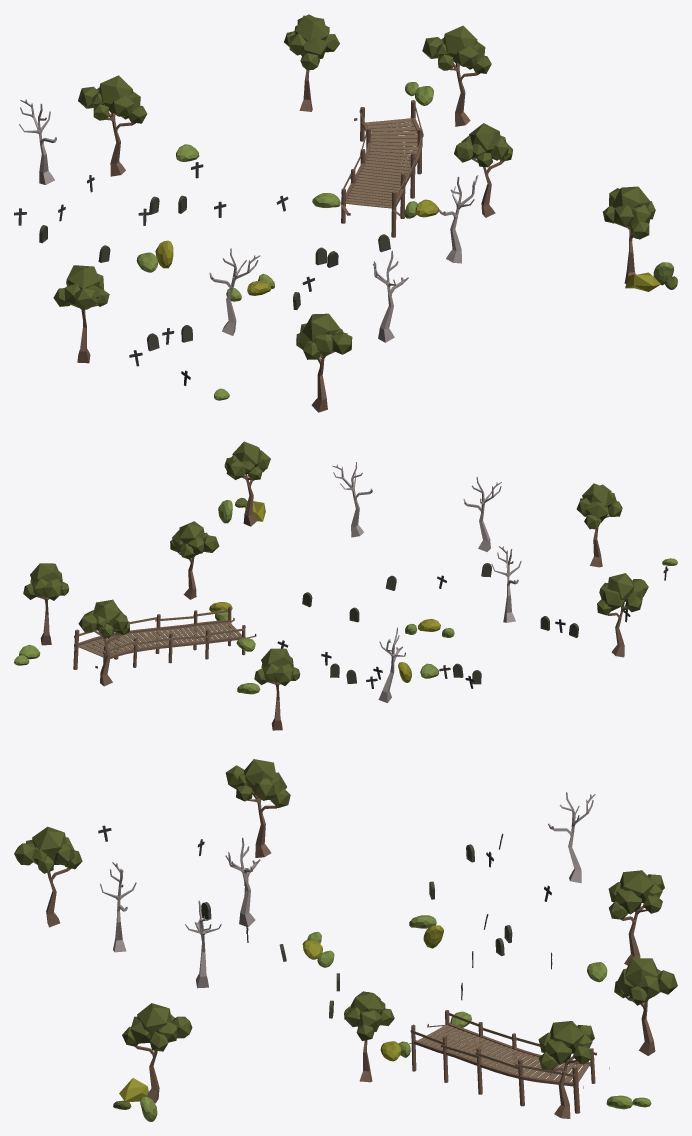
The picture shows the model from 3 angles, top to bottom: view 1: azimuth 30°, elevation 25°; view 2: azimuth 150°, elevation 25°; view 3: azimuth 270°, elevation 25°; orthographic projection. The views are drawn at different scales.
Parts seen in each view (by area): view 1: lankut, Cylinder.003, runko.003, runko.001, runko.002, runko, Icosphere.059, Icosphere.032, Icosphere.014, Icosphere.023, Icosphere.005, Icosphere.041 (+1 smaller); view 2: lankut, runko.001, runko.002, runko, laita, runko.003, Icosphere.005, laita.001, Cylinder.003, Icosphere.023, Icosphere.014, Icosphere.032 (+2 smaller); view 3: lankut, Cylinder.003, runko, laita.001, runko.003, Icosphere.041, Icosphere.059, Icosphere.014, Icosphere.032, runko.002, Icosphere.023, runko.001 (+2 smaller).
Boxes of the visible parts, box(x1,y1,x2,y2) form: lankut: box(345, 118, 417, 208); Cylinder.003: box(391, 100, 422, 237); runko.003: box(19, 99, 56, 184); runko.001: box(438, 175, 478, 263); runko.002: box(372, 250, 408, 342); runko: box(209, 248, 260, 335); Icosphere.059: box(302, 313, 340, 341); Icosphere.032: box(443, 25, 477, 63); Icosphere.014: box(98, 75, 132, 113); Icosphere.023: box(294, 15, 327, 41); Icosphere.005: box(66, 265, 99, 289); Icosphere.041: box(612, 186, 650, 209); lankut: box(77, 622, 241, 657); runko.001: box(332, 462, 372, 537); runko.002: box(463, 476, 501, 551); runko: box(491, 546, 521, 622); laita: box(95, 634, 256, 668); runko.003: box(378, 627, 405, 702); Icosphere.005: box(607, 573, 634, 601); laita.001: box(74, 617, 234, 652); Cylinder.003: box(73, 606, 231, 669); Icosphere.023: box(93, 599, 120, 625); Icosphere.014: box(261, 648, 293, 667); Icosphere.032: box(30, 563, 62, 582); lankut: box(418, 1025, 589, 1081); Cylinder.003: box(411, 1024, 580, 1113); runko: box(225, 837, 260, 927); laita.001: box(409, 1040, 583, 1088); runko.003: box(548, 792, 595, 883); Icosphere.041: box(137, 1003, 171, 1036); Icosphere.059: box(32, 826, 66, 861); Icosphere.014: box(620, 870, 654, 902); Icosphere.032: box(550, 1021, 584, 1053); runko.002: box(100, 862, 136, 952); Icosphere.023: box(625, 958, 657, 987); runko.001: box(185, 900, 221, 988).
Size of the model in its own units: 49.59 by 12.3 by 49.65.
